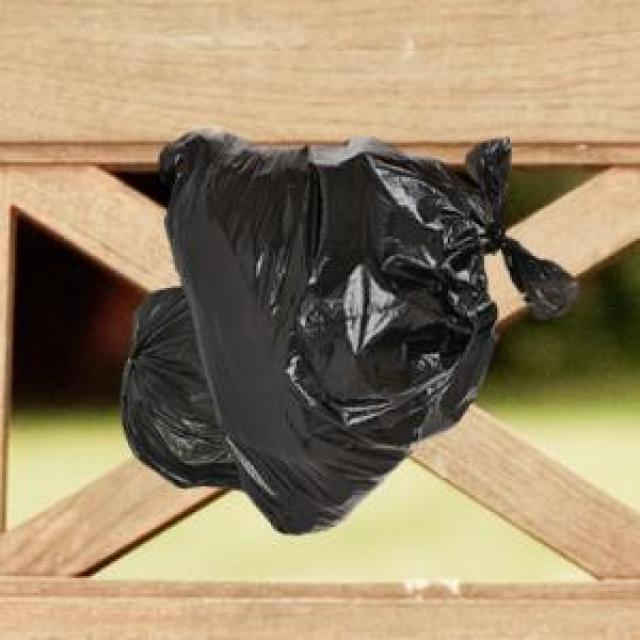garbage_bag: (115, 122, 580, 536)
